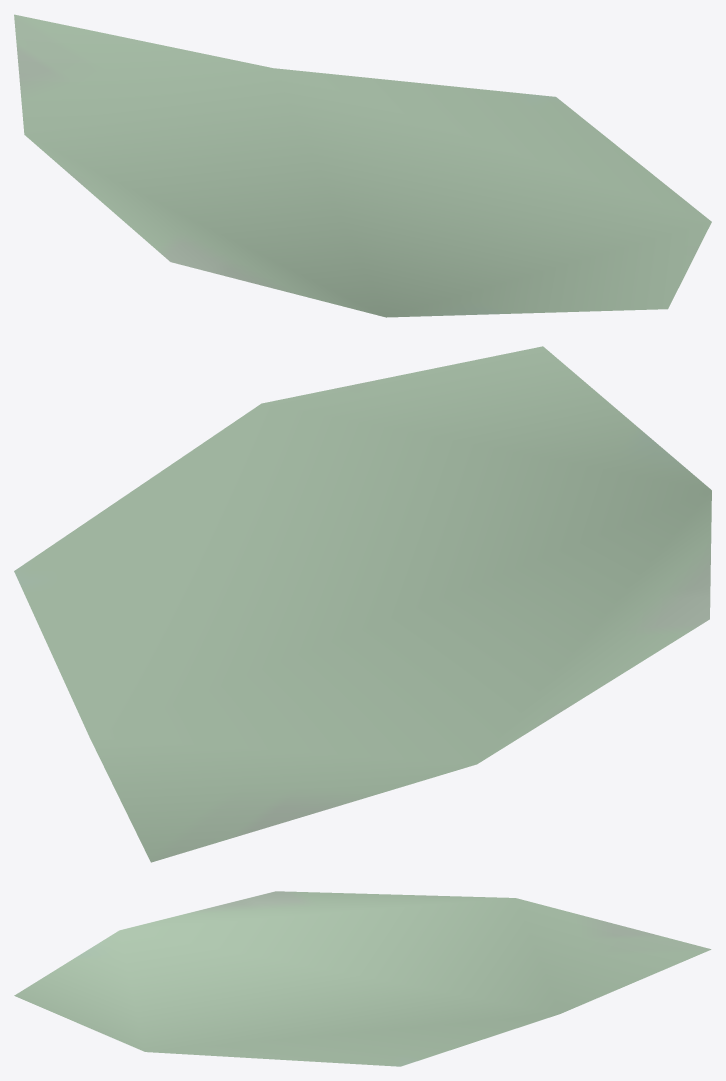
The model's file is TROLLHOLE02_HOLECAP135.fbx.
3 renders of one model, top to bottom at view 1: azimuth 30°, elevation 25°; view 2: azimuth 150°, elevation 25°; view 3: azimuth 270°, elevation 25°, orthographic. The views are drawn at different scales.
Visible parts, largest first — view 1: TROLLHOLE02_HOLECAP135; view 2: TROLLHOLE02_HOLECAP135; view 3: TROLLHOLE02_HOLECAP135.
Part boxes in pixels (x1,y1,x2,y2): TROLLHOLE02_HOLECAP135: (14,14,711,317); TROLLHOLE02_HOLECAP135: (14,346,711,862); TROLLHOLE02_HOLECAP135: (14,891,711,1066).
Bounding box in the file's own units: 16918 × 1123 × 30069.
1 material, 1 textured.
